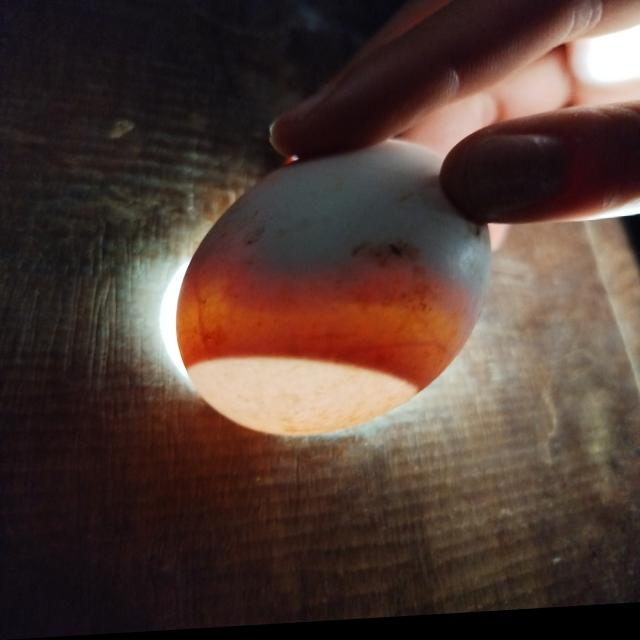Embriao: (190, 155, 492, 305)
